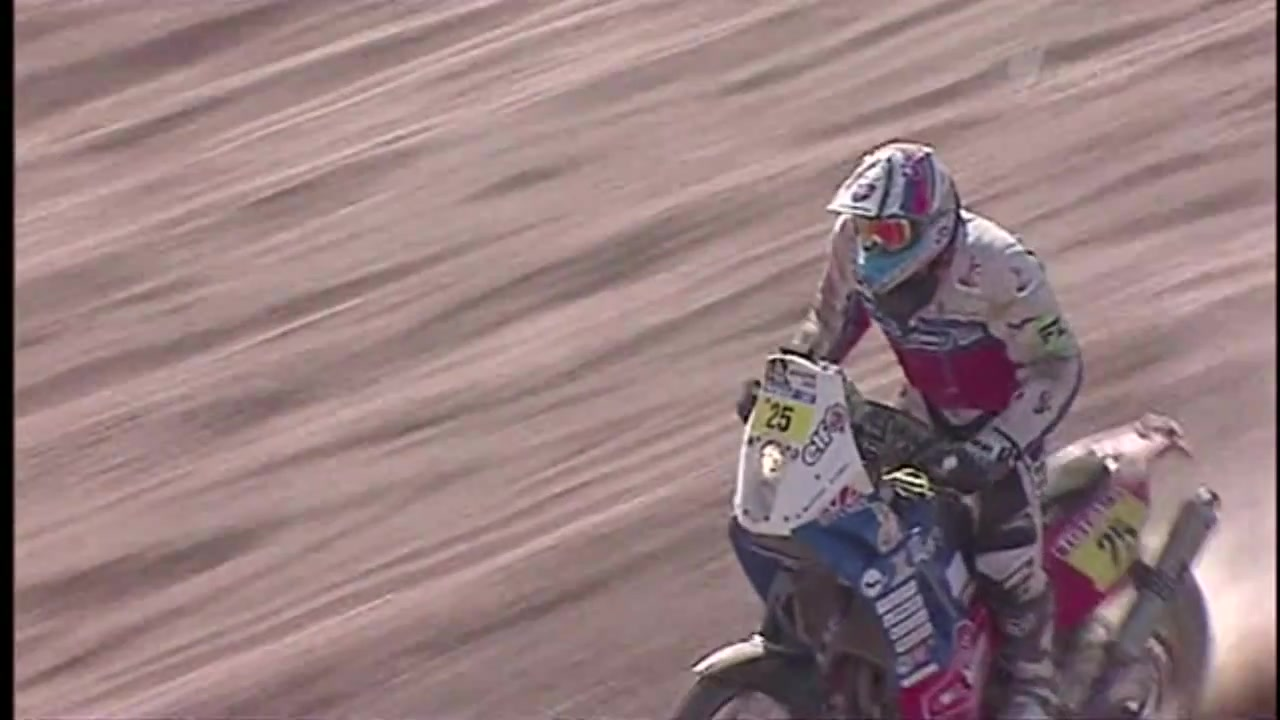motorbike: (665, 355, 1222, 720)
